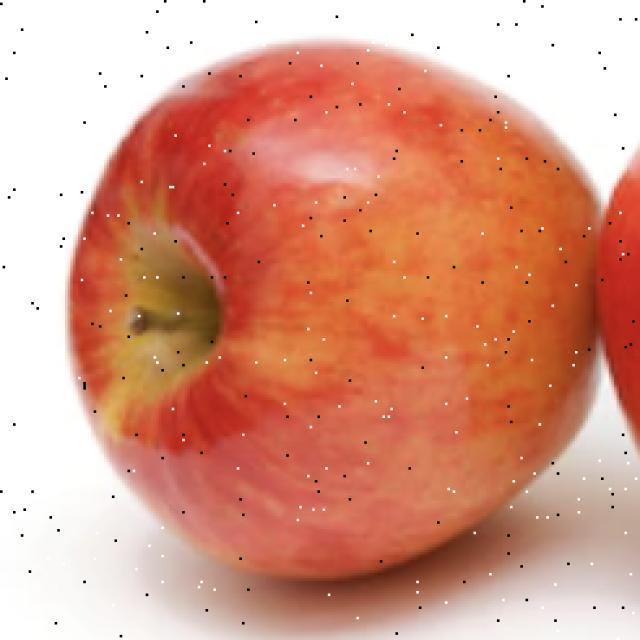Fresh Apple: (69, 33, 607, 583)
